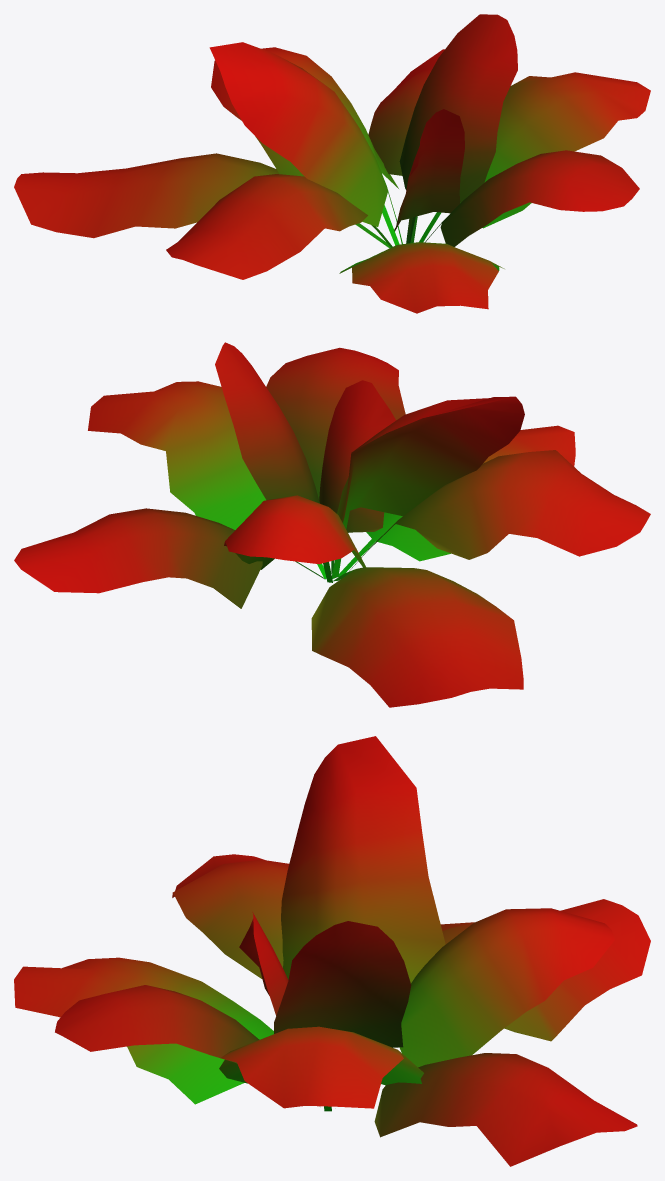
File: Var2_LOD3.fbx
3 views of the same model, one above another, from view 1: azimuth 30°, elevation 25°; view 2: azimuth 150°, elevation 25°; view 3: azimuth 270°, elevation 25° (orthographic). The views are drawn at different scales.
Parts seen in each view (by area): view 1: _36a0_Var2_LOD3; view 2: _36a0_Var2_LOD3; view 3: _36a0_Var2_LOD3.
Part boxes in pixels (x1,y1,x2,y2): _36a0_Var2_LOD3: (14, 14, 650, 313); _36a0_Var2_LOD3: (14, 342, 650, 707); _36a0_Var2_LOD3: (14, 736, 650, 1166).
Size of the model in its own units: 258 by 114 by 241.
